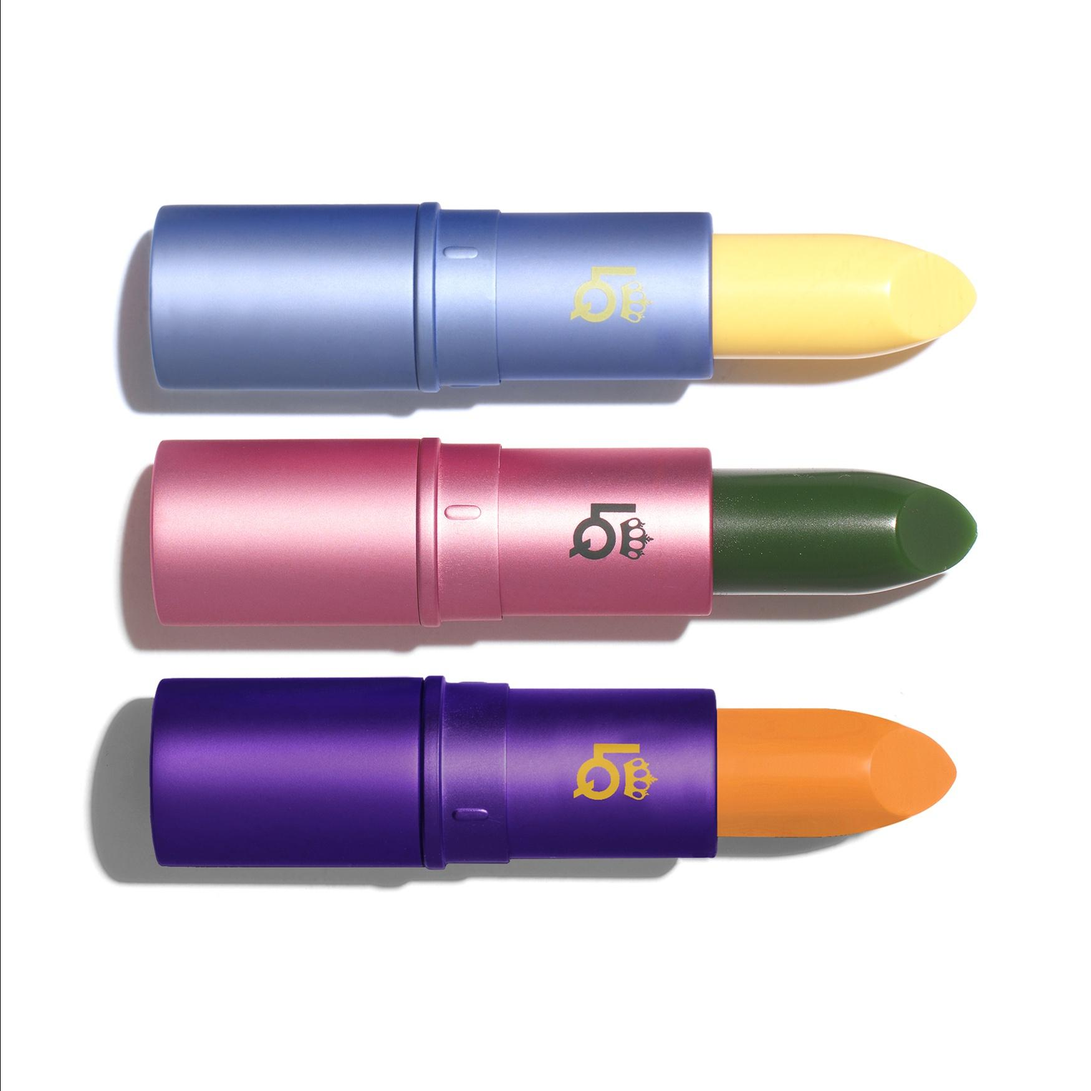lipstick: (75, 656, 968, 890), (123, 176, 988, 412), (117, 432, 979, 647)
